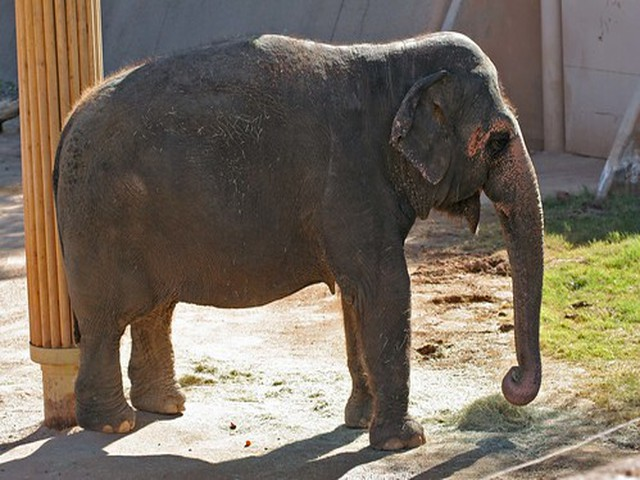Elephant: (48, 35, 548, 450)
